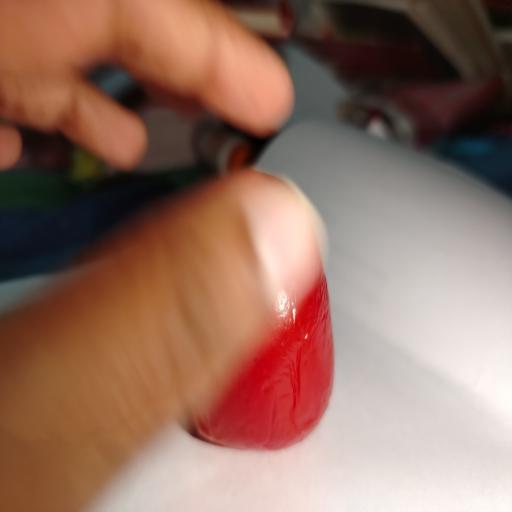spoiled: (196, 273, 334, 449)
